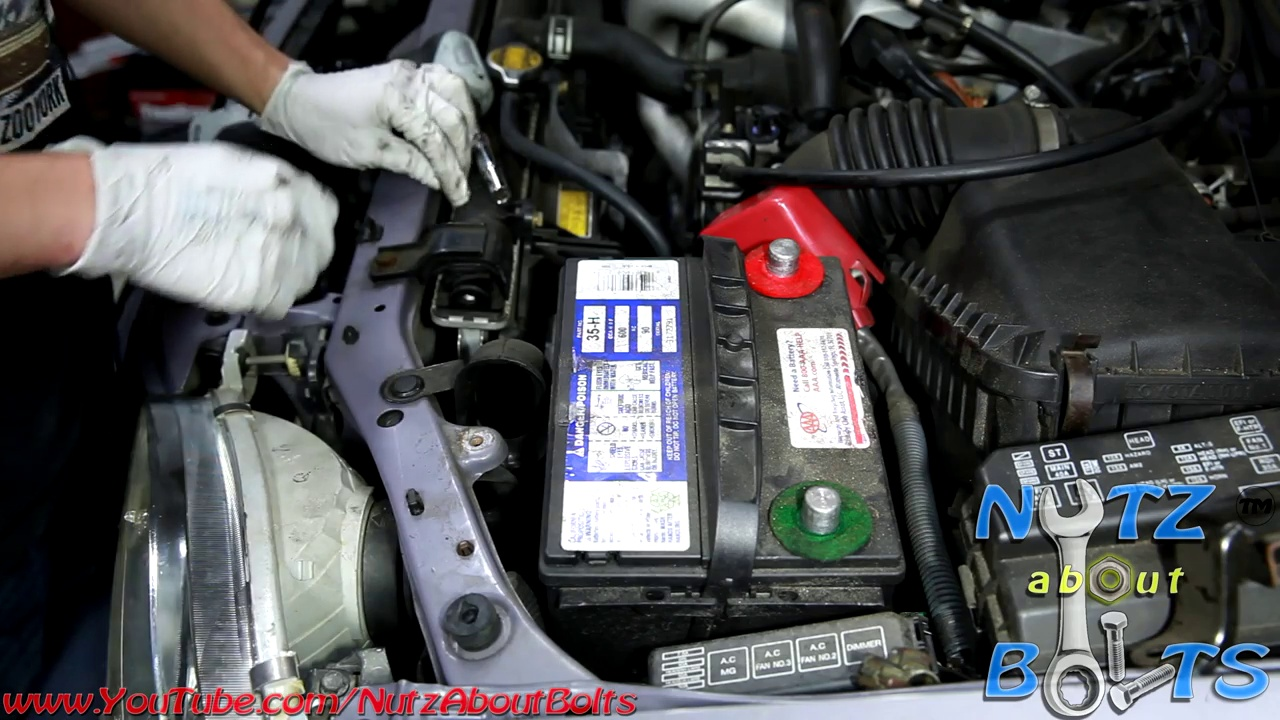battery: (552, 245, 896, 603)
neg_disconnected: (779, 469, 861, 561)
pos_disconnected: (709, 201, 861, 300)
